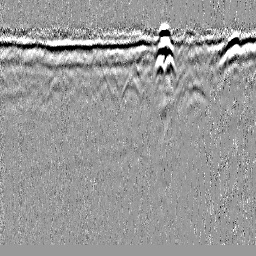cavity: (119, 73, 141, 103)
